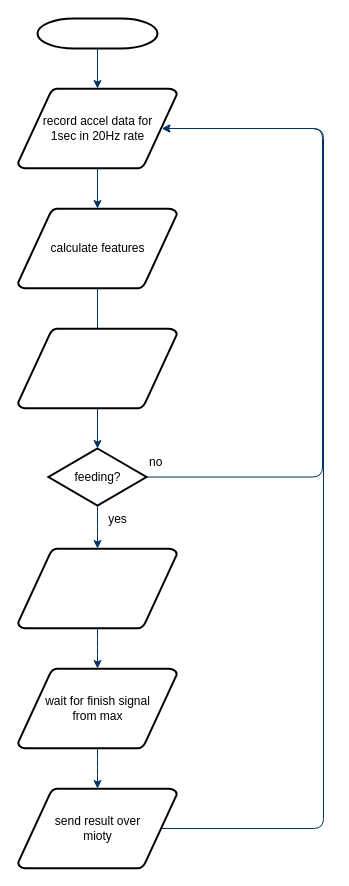
The diagram is 349 pixels wide and 886 high, and some of its shapes have lost their labels. The shapes that lost their labels are listed below. From the top down, each one's box as (x1, y1, x2, y2) in pixels, then its label:
(36, 17, 158, 49): start
(16, 327, 178, 409): predict
(16, 547, 178, 629): send Signal to ESP32_CAM
